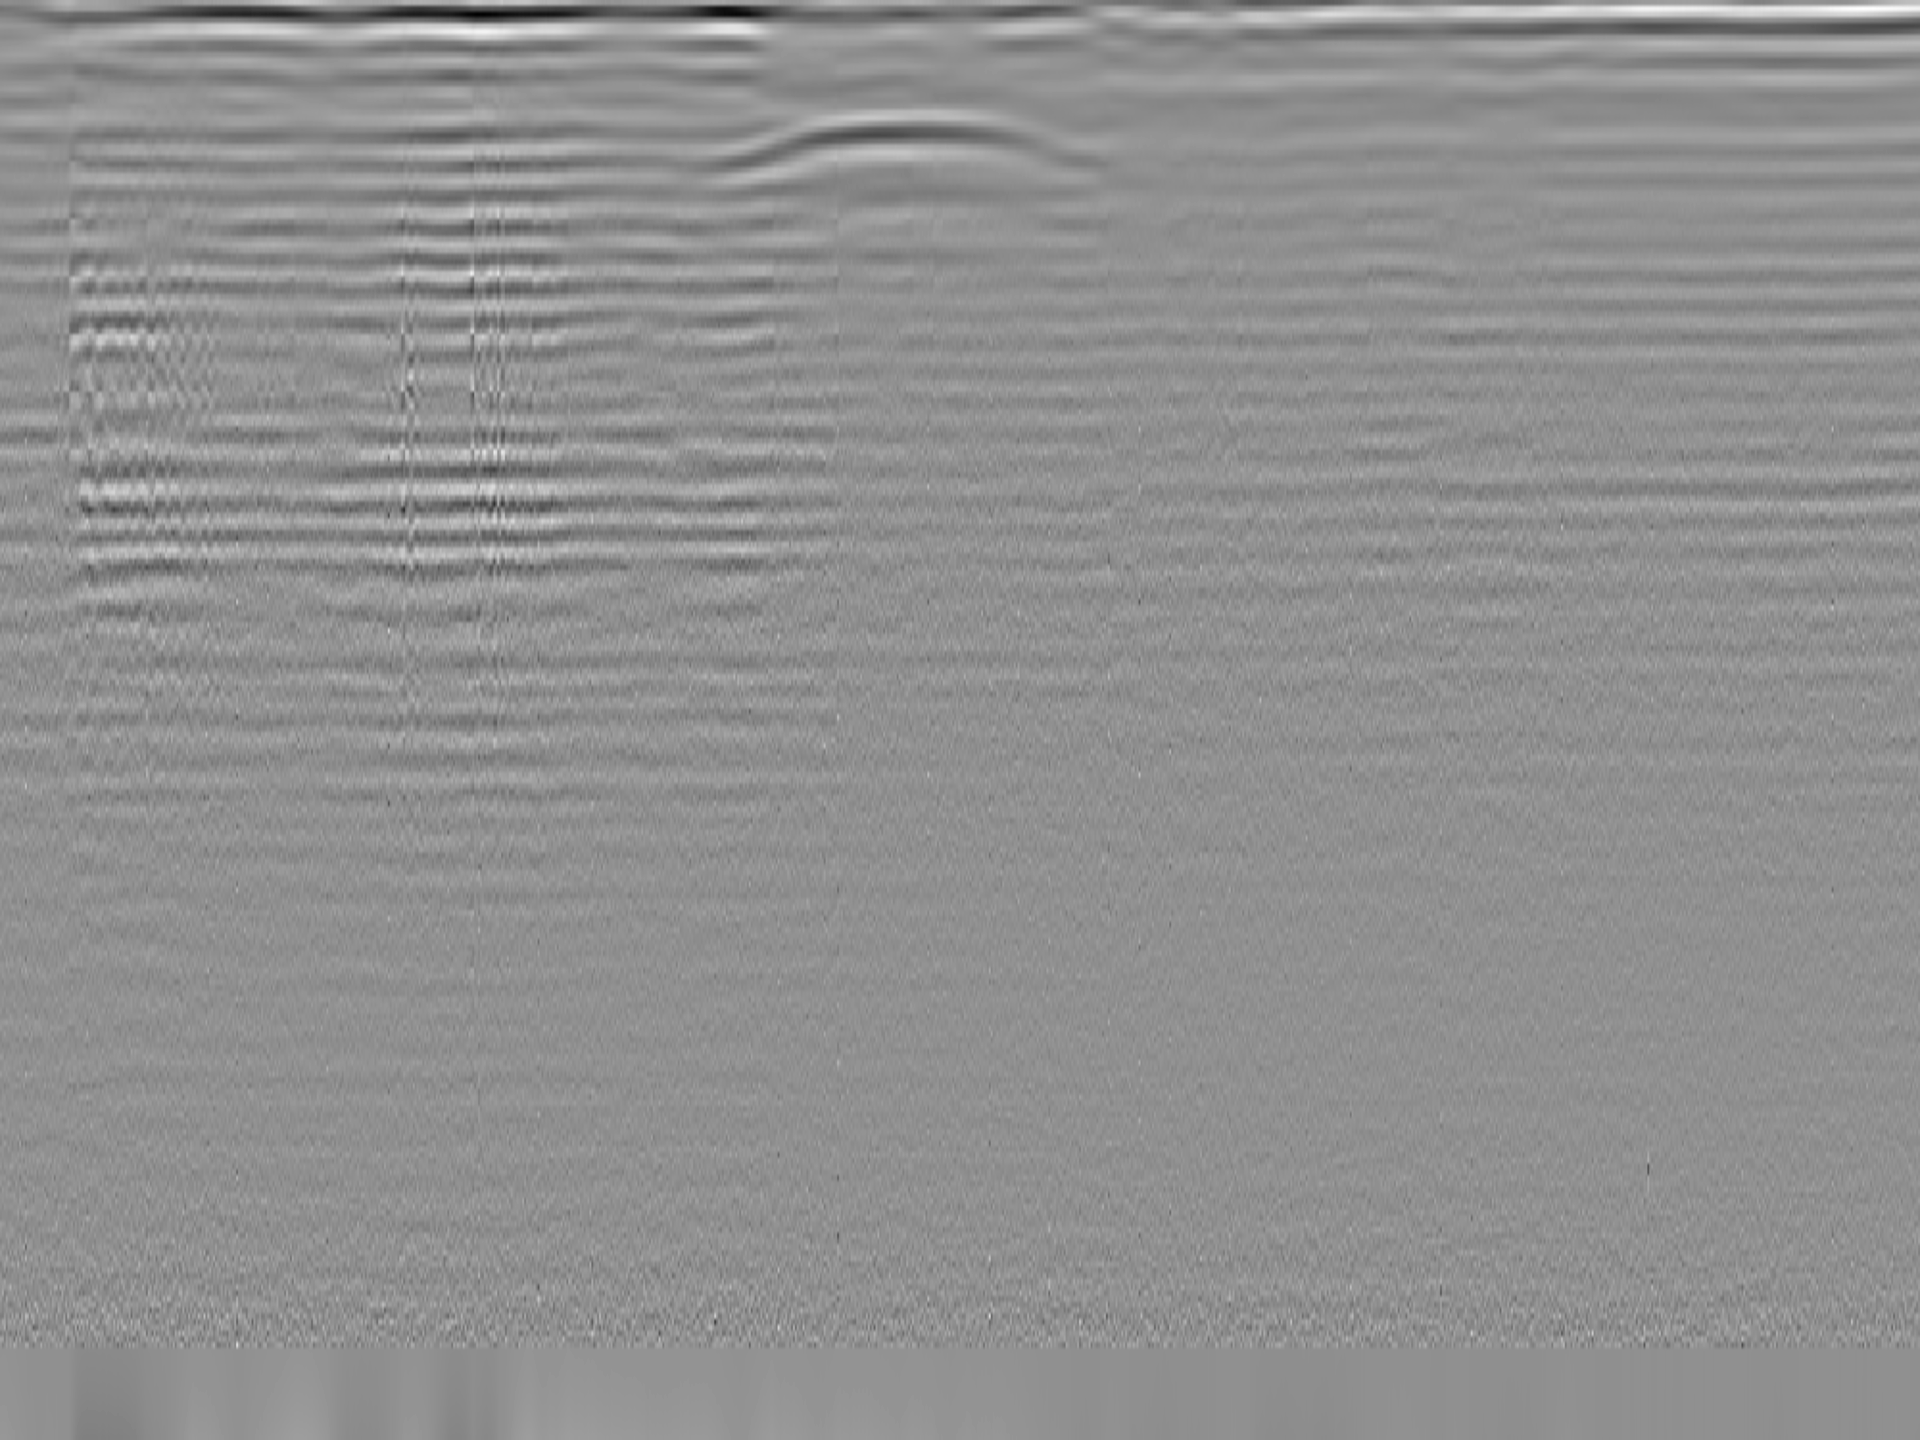Tunnel: (717, 112, 1107, 175)
